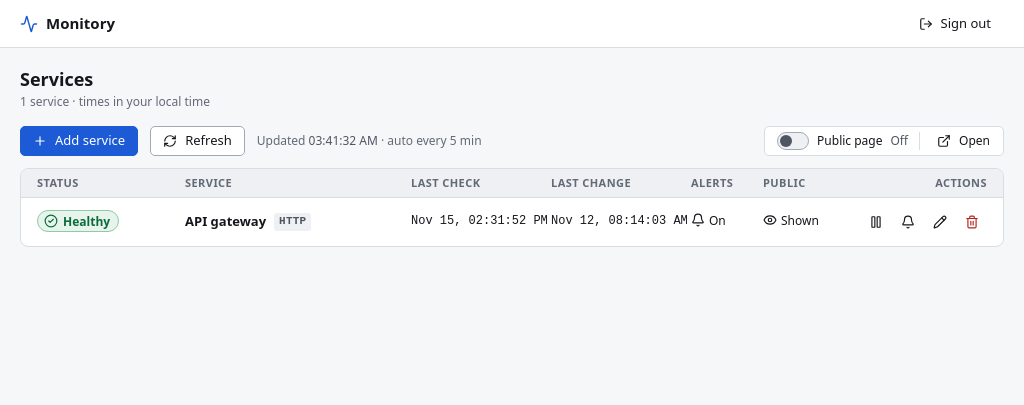
Test: App routes › signed in: the Alerts link on the dashboard opens the alert list
This screenshot has width=1024, height=405.
What coordinates should you click on to do the following:
click the link named "Alerts API gateway"
I would click on:
 (908, 222)
Its box is [893,207,923,237].
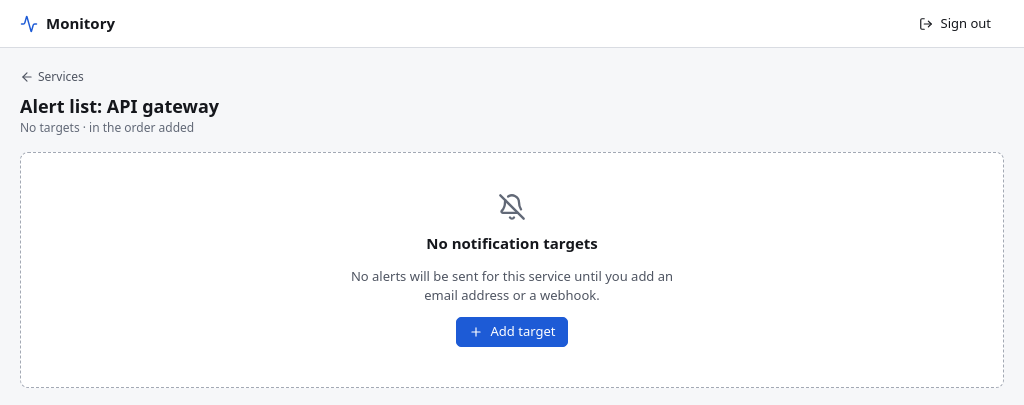
Now the heading "No notification targets" is shown, box [426,233,598,255]
